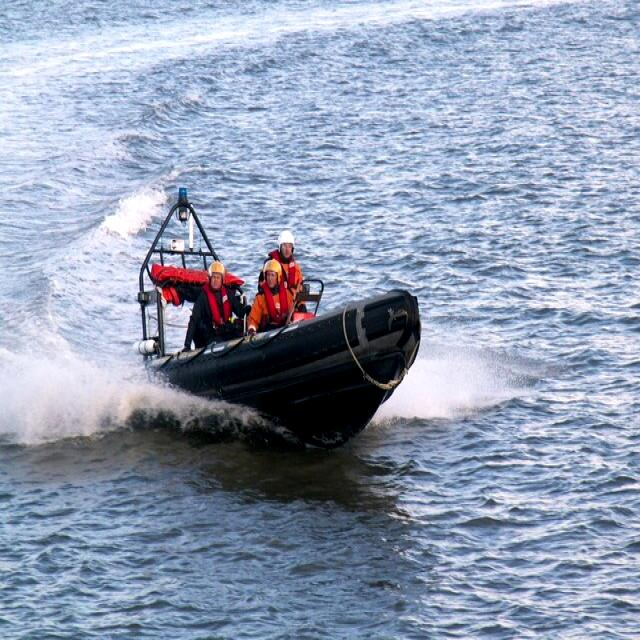rescuer: (183, 255, 248, 350), (256, 226, 313, 317), (246, 257, 300, 339)
